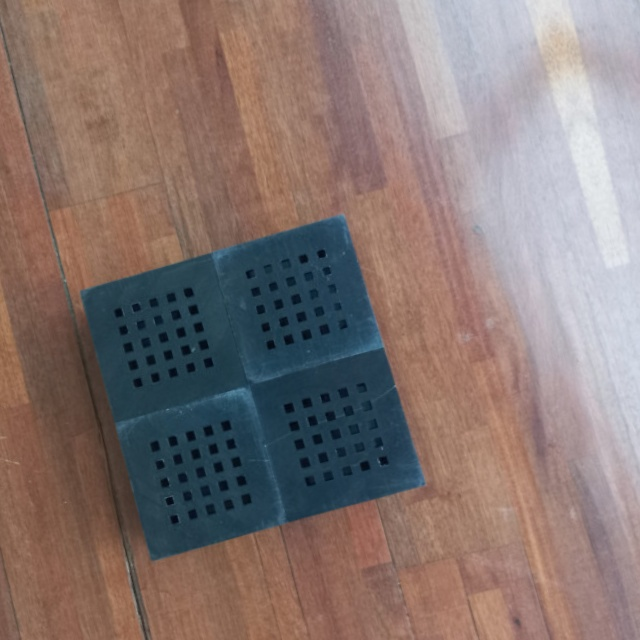pallet: (77, 206, 436, 570)
